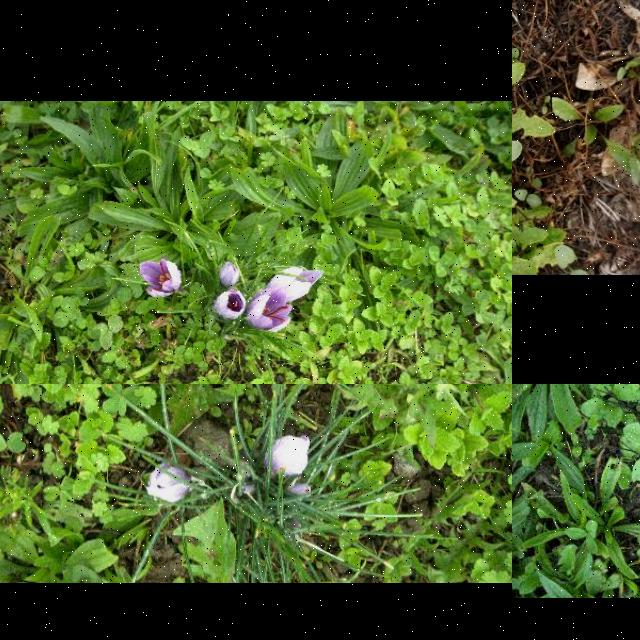flower: (266, 266, 324, 302), (247, 288, 293, 330), (264, 435, 310, 477), (140, 258, 186, 298), (147, 462, 191, 503), (215, 290, 249, 322), (220, 264, 243, 288)
